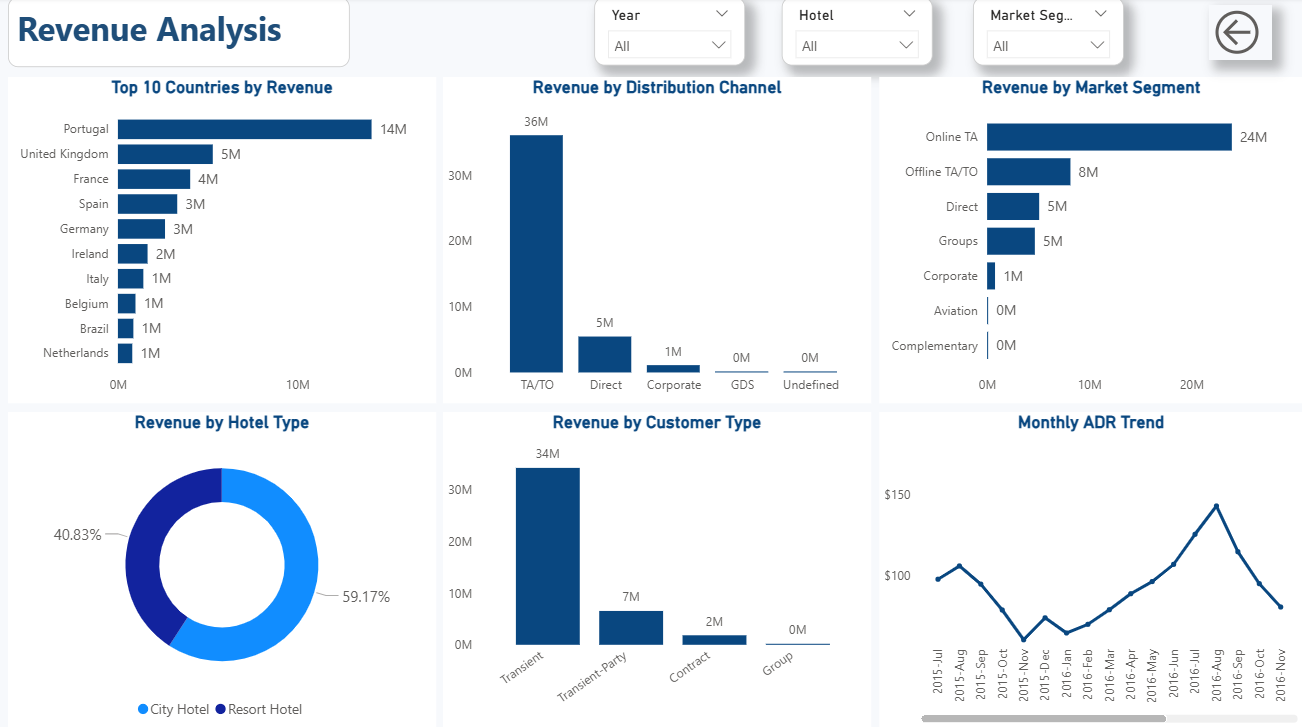

The dashboard page shown, as its layout file describes it:
{"tool":"powerbi","page":{"name":"Revenue Analysis ","canvas":[1280,720],"ordinal":2},"visuals":[{"type":"textbox","box":[9.6,0,334.8,68.6],"z":0},{"type":"slicer","fields":{"Values":["Dim_Date.Year"]},"box":[584.6,0,148.2,67.2],"z":1000},{"type":"slicer","fields":{"Values":["Dim_Hotel.hotel"]},"box":[768.4,0,148.2,67.2],"z":2000},{"type":"slicer","fields":{"Values":["Dim_MarketSegment.market_segment"]},"box":[956.4,0,148.2,67.2],"z":3000},{"type":"clusteredBarChart","title":"Top 10 Countries by Revenue","fields":{"Category":["Dim_country.Country Name"],"Y":["hotel_bookings.Total Revenue"]},"box":[9.6,78.2,420,320],"z":4000},{"type":"clusteredBarChart","title":"Revenue by Market Segment","fields":{"Category":["Dim_MarketSegment.market_segment"],"Y":["hotel_bookings.Total Revenue"]},"box":[864,78.2,416,320],"z":5000},{"type":"donutChart","title":"Revenue by Hotel Type","fields":{"Category":["Dim_Hotel.hotel"],"Y":["hotel_bookings.Total Revenue"]},"box":[9.6,407.5,419.9,310.1],"z":6000},{"type":"clusteredColumnChart","title":"Revenue by Distribution Channel","fields":{"Category":["hotel_bookings.distribution_channel"],"Y":["hotel_bookings.Total Revenue"]},"box":[437.1,78.2,420,320],"z":7000},{"type":"lineChart","title":"Monthly ADR Trend","fields":{"Y":["hotel_bookings.Average ADR"],"Category":["Dim_Date.Year-Month"]},"box":[864.2,407.5,415.8,310.1],"z":8000},{"type":"clusteredColumnChart","title":"Revenue by Customer Type","fields":{"Category":["hotel_bookings.customer_type"],"Y":["hotel_bookings.Total Revenue"]},"box":[437,407.5,420,310.5],"z":9000},{"type":"actionButton","box":[1188.1,6.8,61.3,54.5],"z":10000}]}

Visuals, with their boxes in screenshot pixels (x1, y1, x2, y2), scaled from the page's 1280x720 canvas onto the 1302x727 screenshot:
textbox: l=10, t=0, r=350, b=69
slicer - Dim_Date.Year: l=595, t=0, r=745, b=68
slicer - Dim_Hotel.hotel: l=782, t=0, r=932, b=68
slicer - Dim_MarketSegment.market_segment: l=973, t=0, r=1124, b=68
"Top 10 Countries by Revenue" clusteredBarChart: l=10, t=79, r=437, b=402
"Revenue by Market Segment" clusteredBarChart: l=879, t=79, r=1301, b=402
"Revenue by Hotel Type" donutChart: l=10, t=411, r=437, b=725
"Revenue by Distribution Channel" clusteredColumnChart: l=445, t=79, r=872, b=402
"Monthly ADR Trend" lineChart: l=879, t=411, r=1301, b=725
"Revenue by Customer Type" clusteredColumnChart: l=445, t=411, r=872, b=725
actionButton: l=1209, t=7, r=1271, b=62
